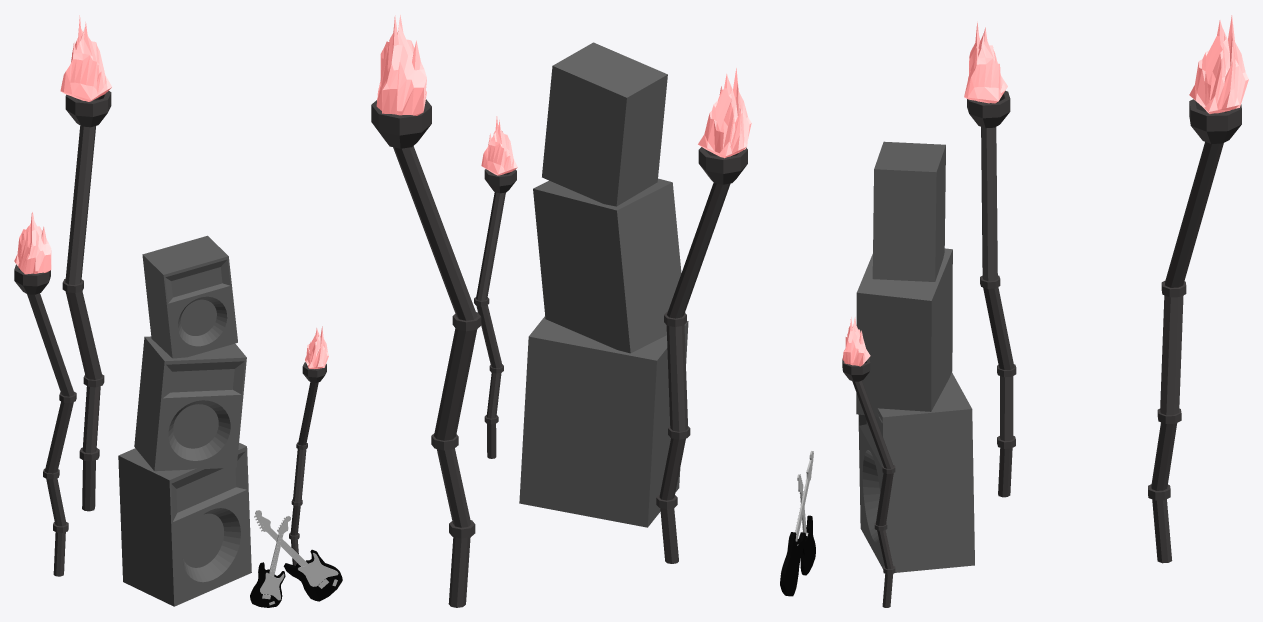
File: SM_Torre.fbx
The picture shows the model from 3 angles, left to right: view 1: azimuth 30°, elevation 25°; view 2: azimuth 150°, elevation 25°; view 3: azimuth 270°, elevation 25°; orthographic projection. The views are drawn at different scales.
Visible parts, largest first — view 1: Altavoz_01, Altavoz_01_1, Altavoz_01_2, Cylinder_5_5, Cylinder_7, Fuego_01, Cylinder_6, Fuego_01_3, Cuerpo_3, Fuego_01_2, Cuerpo_6, Refuezo (+1 smaller); view 2: Altavoz_01, Altavoz_01_1, Altavoz_01_2, Cylinder_5_5, Cylinder_7, Cylinder_6, Fuego_01, Fuego_01_3, Fuego_01_2; view 3: Altavoz_01, Altavoz_01_1, Altavoz_01_2, Cylinder_5_5, Cylinder_7, Fuego_01, Cylinder_6, Fuego_01_3, Cuerpo_3, Fuego_01_2.
Boxes of the visible parts, x1,y1,x2,y2 form: Altavoz_01: (118, 442, 251, 606); Altavoz_01_1: (134, 336, 246, 471); Altavoz_01_2: (142, 235, 237, 358); Cylinder_5_5: (62, 91, 111, 511); Cylinder_7: (14, 264, 76, 576); Fuego_01: (60, 15, 111, 101); Cylinder_6: (289, 362, 326, 565); Fuego_01_3: (14, 212, 51, 274); Cuerpo_3: (283, 549, 342, 601); Fuego_01_2: (305, 326, 328, 368); Cuerpo_6: (250, 562, 285, 607); Refuezo: (298, 553, 338, 586); Altavoz_01: (519, 316, 688, 527); Altavoz_01_1: (533, 178, 686, 353); Altavoz_01_2: (542, 42, 667, 206); Cylinder_5_5: (371, 99, 481, 607); Cylinder_7: (656, 147, 747, 563); Cylinder_6: (474, 169, 516, 458); Fuego_01: (376, 15, 426, 115); Fuego_01_3: (698, 68, 751, 158); Fuego_01_2: (481, 116, 517, 175); Altavoz_01: (858, 372, 974, 572); Altavoz_01_1: (856, 248, 952, 416); Altavoz_01_2: (872, 141, 945, 281); Cylinder_5_5: (1148, 99, 1241, 563); Cylinder_7: (967, 91, 1016, 497); Fuego_01: (1189, 15, 1248, 113); Cylinder_6: (842, 358, 895, 607); Fuego_01_3: (964, 21, 1007, 103); Cuerpo_3: (780, 532, 805, 596); Fuego_01_2: (842, 317, 870, 366).
Size of the model in its own units: 229 by 404 by 308.
